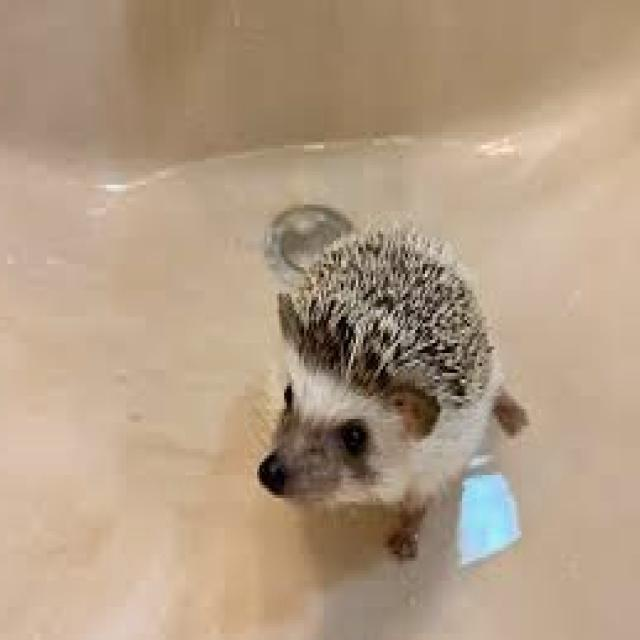hedgehog: (259, 224, 529, 558)
